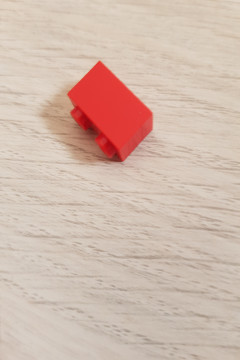1x2 red: (62, 60, 159, 163)
